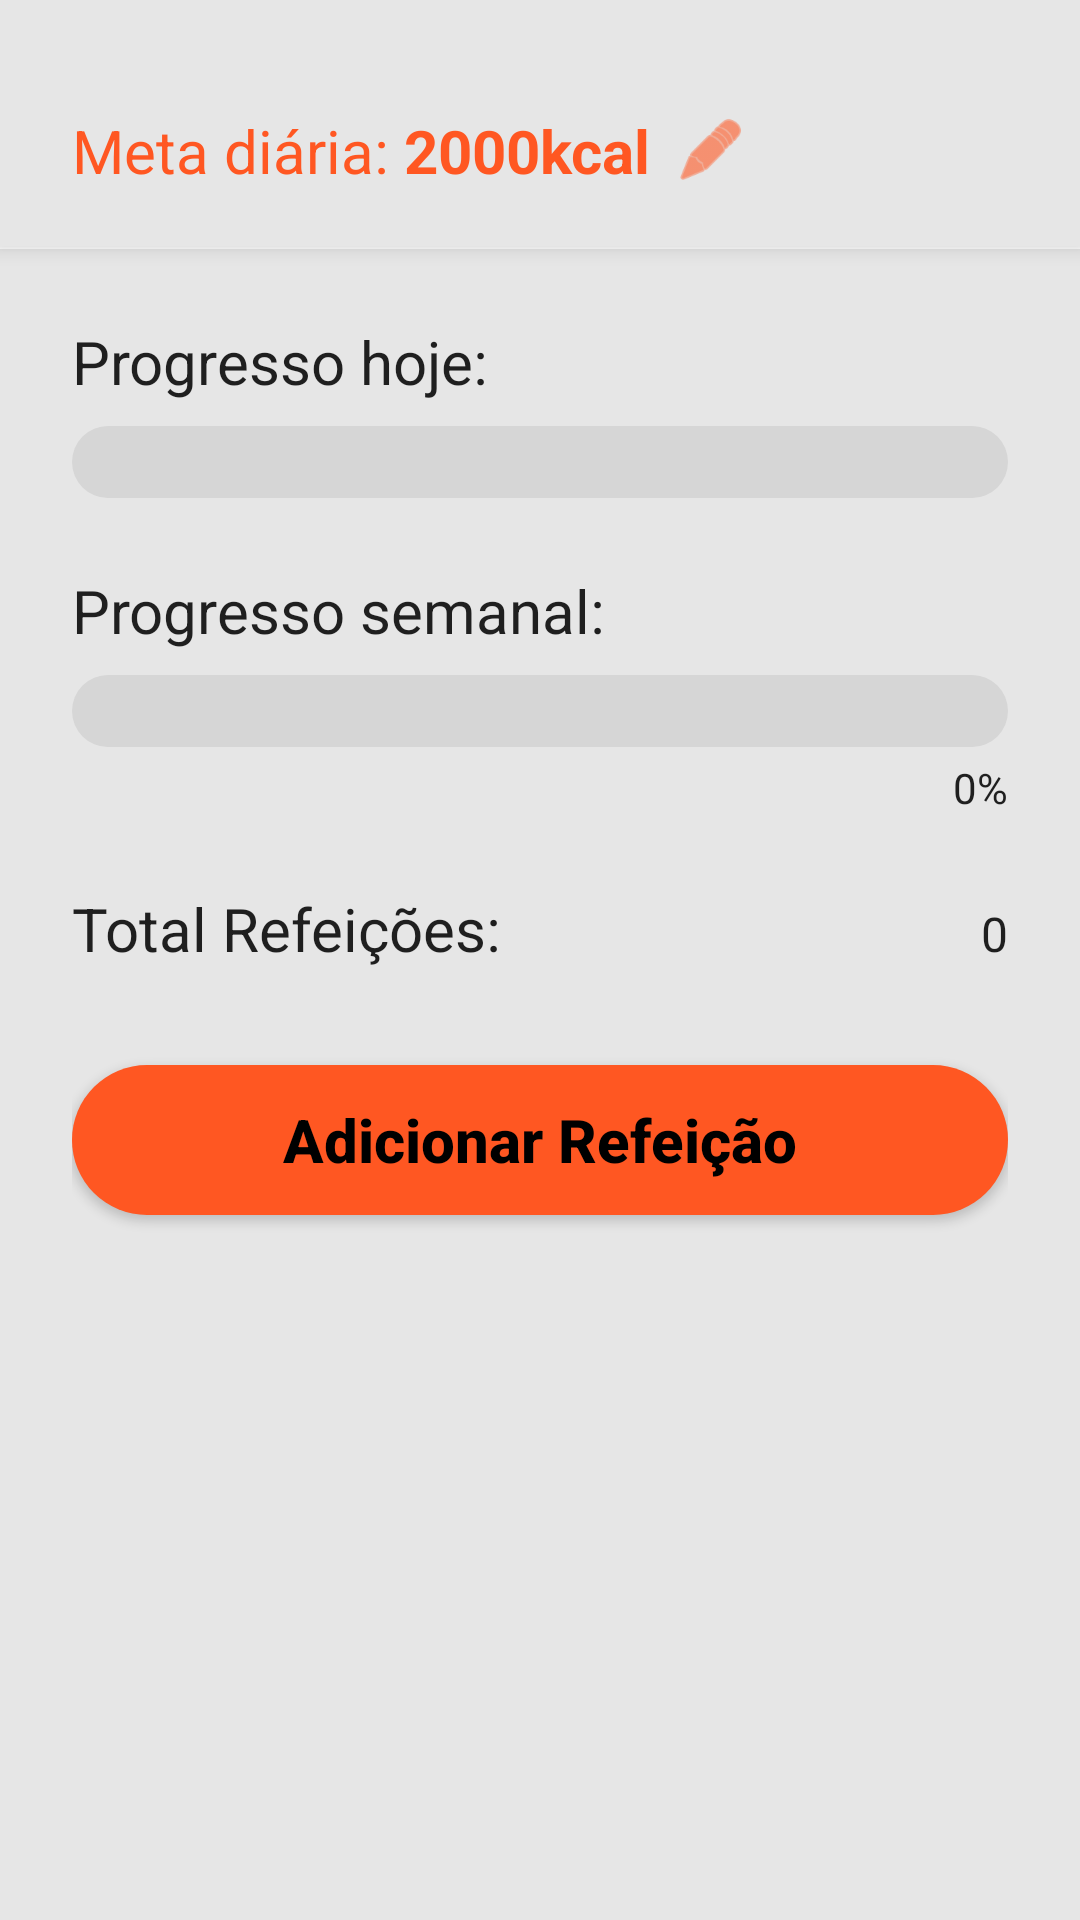

Where icons sit on this 1080w x 1920h app screen, as (x1, y1, x2, y2):
edit: (680, 119, 741, 180)
